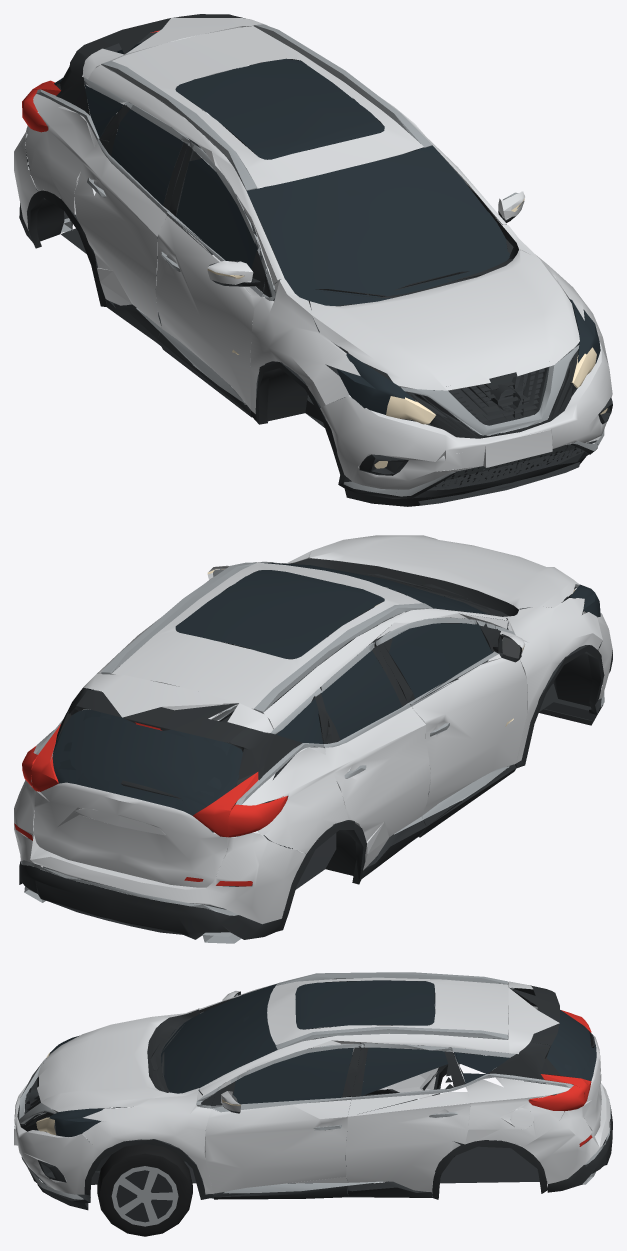
Rendered from crossover.glb.
3 views of the same model, one above another, from view 1: azimuth 30°, elevation 25°; view 2: azimuth 150°, elevation 25°; view 3: azimuth 270°, elevation 25° (orthographic). The views are drawn at different scales.
Visible parts, largest first — view 1: Car body, Car glazing, Car trim, Car wheel discs, Car headlamps, Car tail lamps; view 2: Car body, Car glazing, Car trim, Car wheel discs, Car tail lamps; view 3: Car body, Car glazing, Car trim, Car wheel discs, Wheel tyre, Wheel rim, Car tail lamps, Wheel well.
Boxes of the visible parts, x1,y1,x2,y2 form: Car body: (14, 17, 612, 489); Car glazing: (54, 42, 600, 414); Car trim: (19, 14, 612, 506); Car wheel discs: (29, 24, 604, 496); Car headlamps: (207, 198, 607, 468); Car tail lamps: (22, 30, 159, 132); Car body: (14, 535, 612, 924); Car glazing: (52, 562, 600, 815); Car trim: (19, 557, 612, 939); Car wheel discs: (21, 562, 604, 943); Car tail lamps: (14, 722, 287, 886); Car body: (14, 977, 610, 1194); Car glazing: (47, 980, 596, 1136); Car trim: (17, 981, 612, 1210); Car wheel discs: (18, 972, 611, 1199); Wheel tyre: (97, 1144, 192, 1236); Wheel rim: (111, 1166, 178, 1226); Car tail lamps: (528, 1010, 592, 1146); Wheel well: (114, 1166, 175, 1222).
Size of the model in its own units: 2.17 by 1.72 by 4.89.
